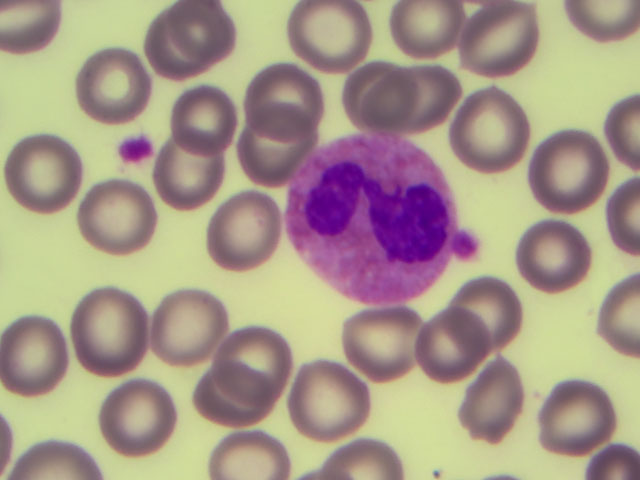Platelets: (118, 131, 156, 172), (449, 224, 480, 259)
RBC: (73, 46, 154, 121), (5, 132, 86, 207), (77, 179, 158, 254), (204, 193, 285, 268), (155, 144, 236, 219), (171, 84, 252, 159), (243, 54, 324, 129), (234, 118, 315, 193), (325, 56, 406, 131), (390, 63, 471, 138), (291, 3, 372, 78), (465, 4, 546, 79), (454, 90, 535, 165), (526, 137, 607, 212), (511, 219, 592, 294), (461, 278, 542, 353), (406, 318, 487, 393), (346, 310, 427, 385), (283, 361, 364, 436), (218, 320, 299, 395), (189, 361, 270, 436), (157, 291, 238, 366), (73, 294, 154, 369), (1, 318, 82, 393), (103, 378, 184, 453), (456, 365, 537, 440), (535, 375, 616, 450), (149, 1, 230, 75), (395, 1, 476, 75), (2, 435, 105, 480), (202, 428, 285, 480), (327, 428, 410, 480), (1, 1, 59, 59), (599, 283, 640, 358), (599, 171, 640, 246), (599, 86, 640, 161), (558, 1, 640, 38)
WBC: (291, 135, 459, 298)
